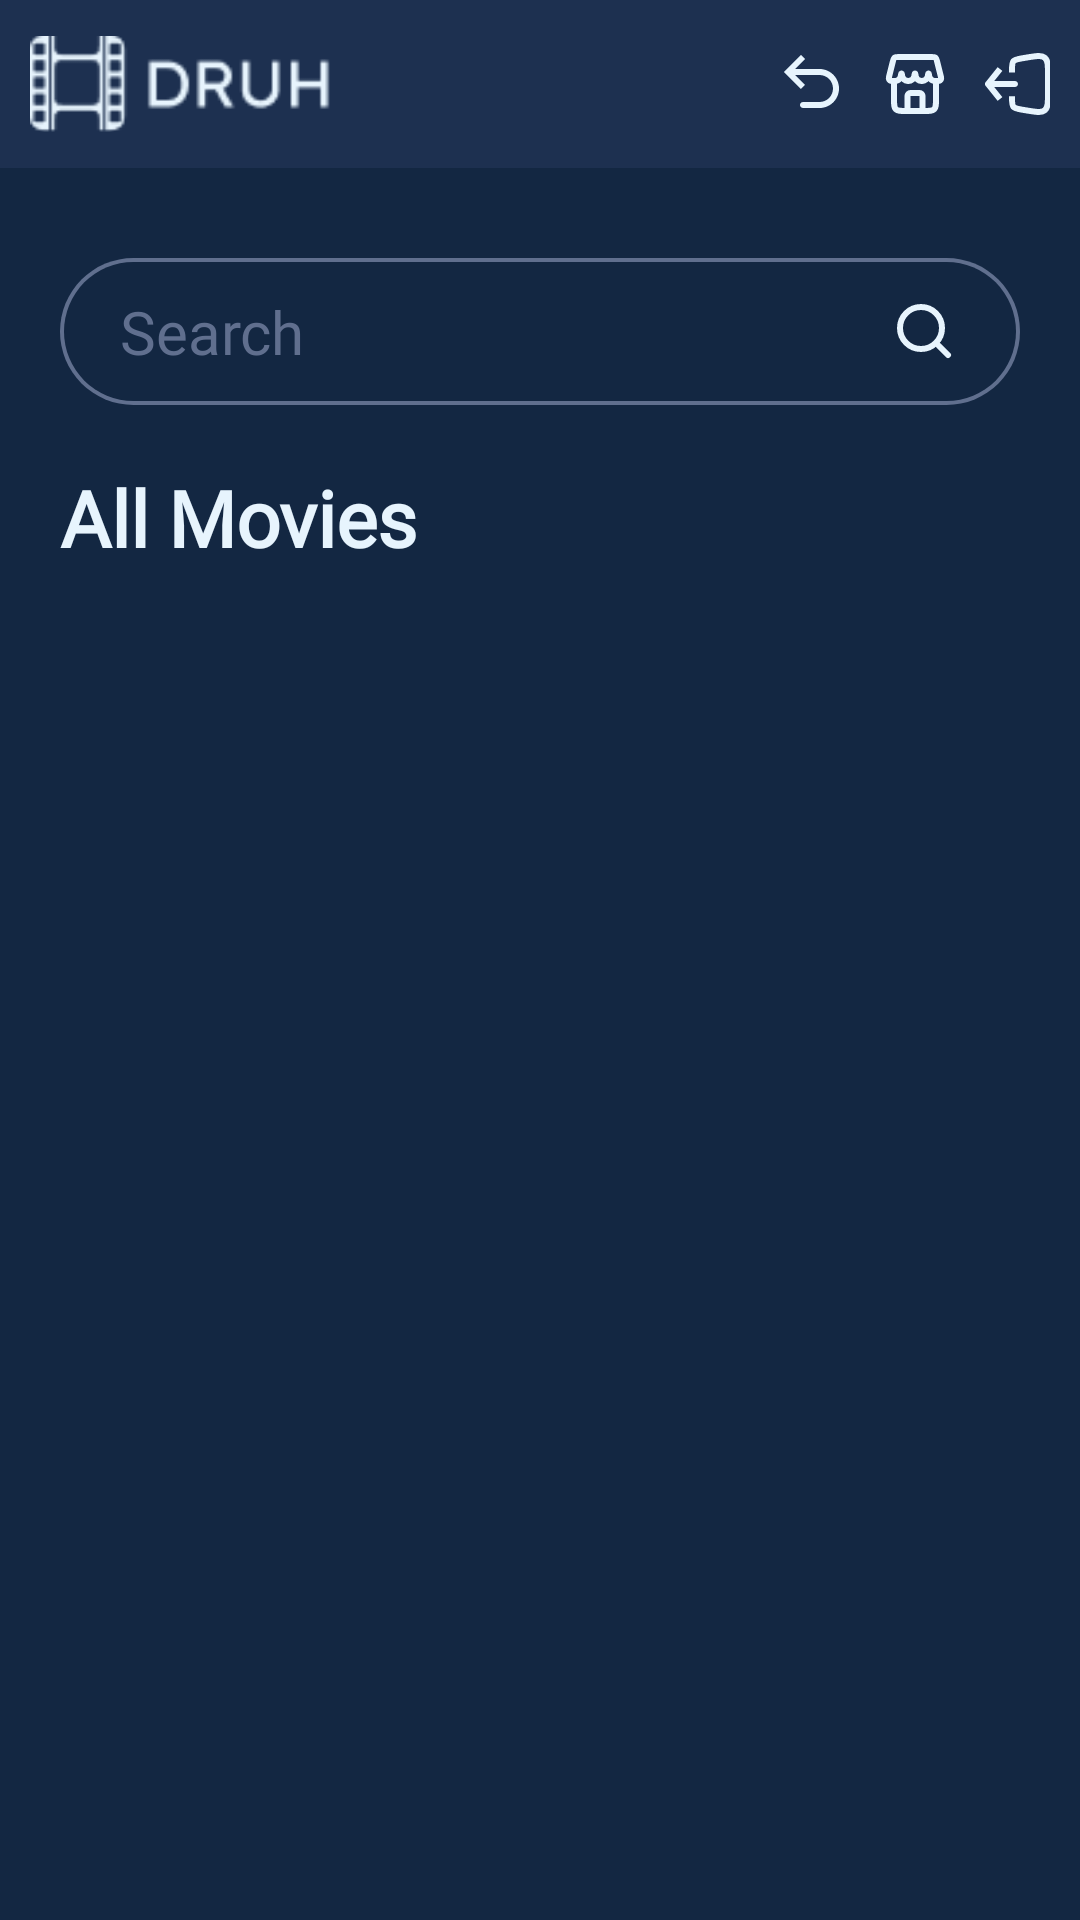

Icons on this 1080px x 1920px Android screen, each with its box as bbox=(x1, y1, x2, y2):
back: bbox=(784, 55, 839, 108)
